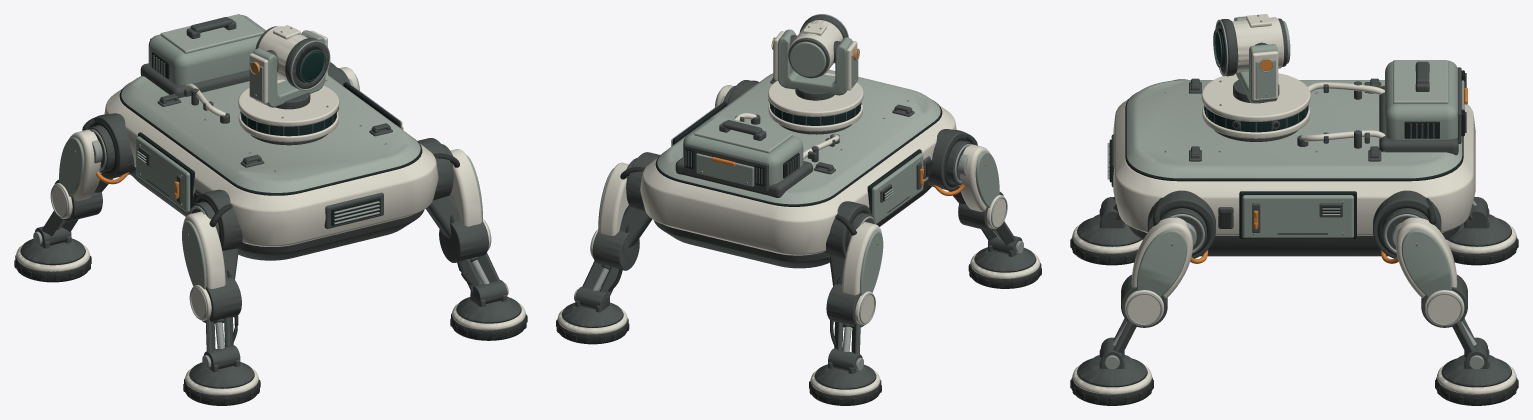
The model's file is quadruped_surveyor.glb.
The picture shows the model from 3 angles, left to right: view 1: azimuth 30°, elevation 25°; view 2: azimuth 150°, elevation 25°; view 3: azimuth 270°, elevation 25°; orthographic projection. The views are drawn at different scales.
Parts seen in each view (by area): view 1: Sage sloped upper deck, Ivory rounded main shell, Rear power pack sage casing, Chassis graphite underbelly, Lidar ivory overhanging cap, Sage side service door -1, Power pack top lid, R_Front ivory upper leg armor, R_Front knee graphite bearing, L_Front ivory upper leg armor, Continuous sage two-sided gimbal fork, R_Front graphite ankle plinth (+32 smaller); view 2: Ivory rounded main shell, Sage sloped upper deck, Chassis graphite underbelly, Continuous sage two-sided gimbal fork, Rear power pack sage casing, Lidar ivory overhanging cap, Sage side service door -1, Power pack top lid, R_Rear ivory upper leg armor, R_Rear knee graphite bearing, L_Rear ivory upper leg armor, R_Rear graphite ankle plinth (+30 smaller); view 3: Sage sloped upper deck, Ivory rounded main shell, Sage side service door 1, Chassis graphite underbelly, Lidar ivory overhanging cap, Rear power pack sage casing, R_Front sage upper leg access panel, R_Rear sage upper leg access panel, Power pack top lid, R_Front graphite ankle plinth, R_Rear graphite ankle plinth, Deck perimeter gasket (+36 smaller).
Boxes of the visible parts, x1,y1,x2,y2 form: Sage sloped upper deck: (121, 75, 420, 192); Ivory rounded main shell: (104, 88, 438, 246); Rear power pack sage casing: (148, 15, 265, 85); Chassis graphite underbelly: (130, 168, 424, 260); Lidar ivory overhanging cap: (238, 79, 339, 126); Sage side service door -1: (136, 136, 190, 212); Power pack top lid: (160, 14, 263, 53); R_Front ivory upper leg armor: (450, 149, 481, 226); R_Front knee graphite bearing: (439, 220, 488, 262); L_Front ivory upper leg armor: (183, 211, 225, 288); Continuous sage two-sided gimbal fork: (253, 30, 325, 107); R_Front graphite ankle plinth: (456, 297, 521, 323); Ivory rounded main shell: (640, 105, 956, 255); Sage sloped upper deck: (657, 69, 940, 204); Chassis graphite underbelly: (653, 180, 931, 268); Continuous sage two-sided gimbal fork: (777, 29, 852, 95); Rear power pack sage casing: (683, 117, 803, 185); Lidar ivory overhanging cap: (768, 73, 863, 116); Sage side service door -1: (872, 153, 923, 223); Power pack top lid: (694, 116, 792, 153); R_Rear ivory upper leg armor: (599, 162, 628, 235); R_Rear knee graphite bearing: (592, 230, 639, 270); L_Rear ivory upper leg armor: (842, 222, 881, 295); R_Rear graphite ankle plinth: (561, 302, 623, 327); Sage sloped upper deck: (1126, 80, 1462, 178); Ivory rounded main shell: (1113, 99, 1475, 235); Sage side service door 1: (1242, 195, 1353, 238); Chassis graphite underbelly: (1128, 225, 1460, 256); Lidar ivory overhanging cap: (1201, 73, 1310, 121); Rear power pack sage casing: (1385, 60, 1457, 139); R_Front sage upper leg access panel: (1137, 229, 1187, 297); R_Rear sage upper leg access panel: (1401, 229, 1451, 297); Power pack top lid: (1393, 60, 1448, 103); R_Front graphite ankle plinth: (1077, 355, 1147, 387); R_Rear graphite ankle plinth: (1441, 355, 1511, 387); Deck perimeter gasket: (1125, 92, 1463, 181).
Bounding box in the file's own units: 2.23 × 1.78 × 2.4.
